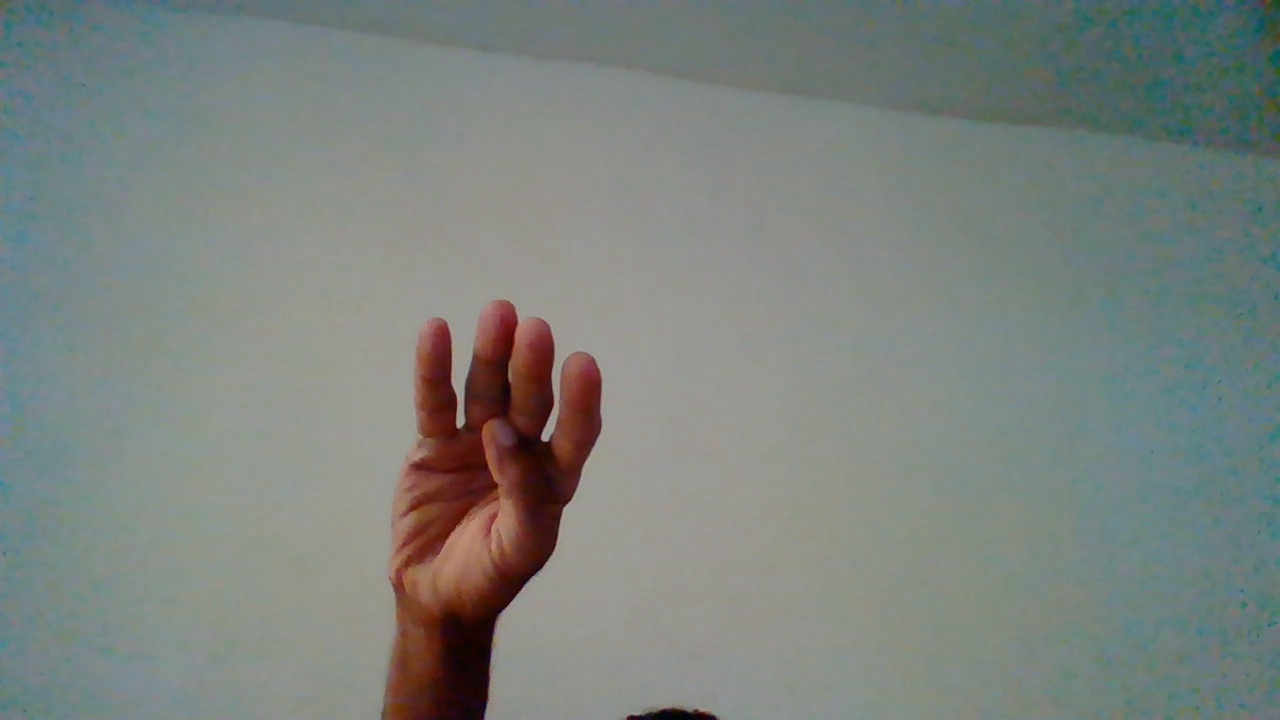me: (378, 298, 607, 700)
